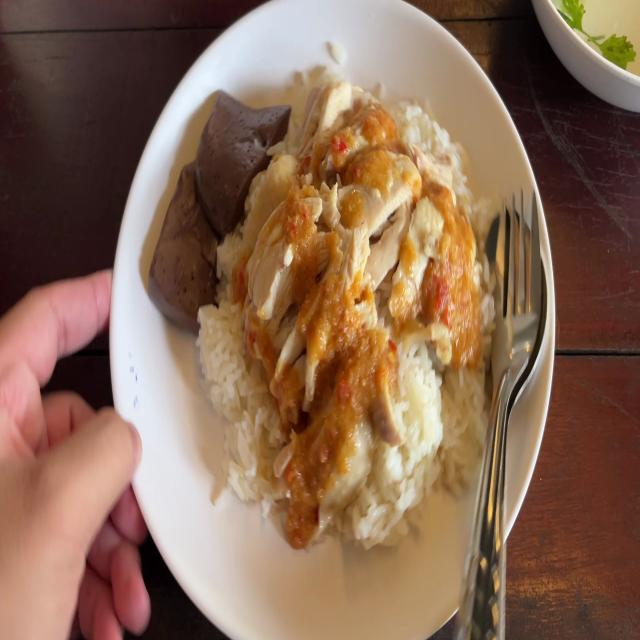chicken_rice: (235, 75, 460, 526)
noodle: (148, 148, 207, 326), (196, 92, 272, 222)
